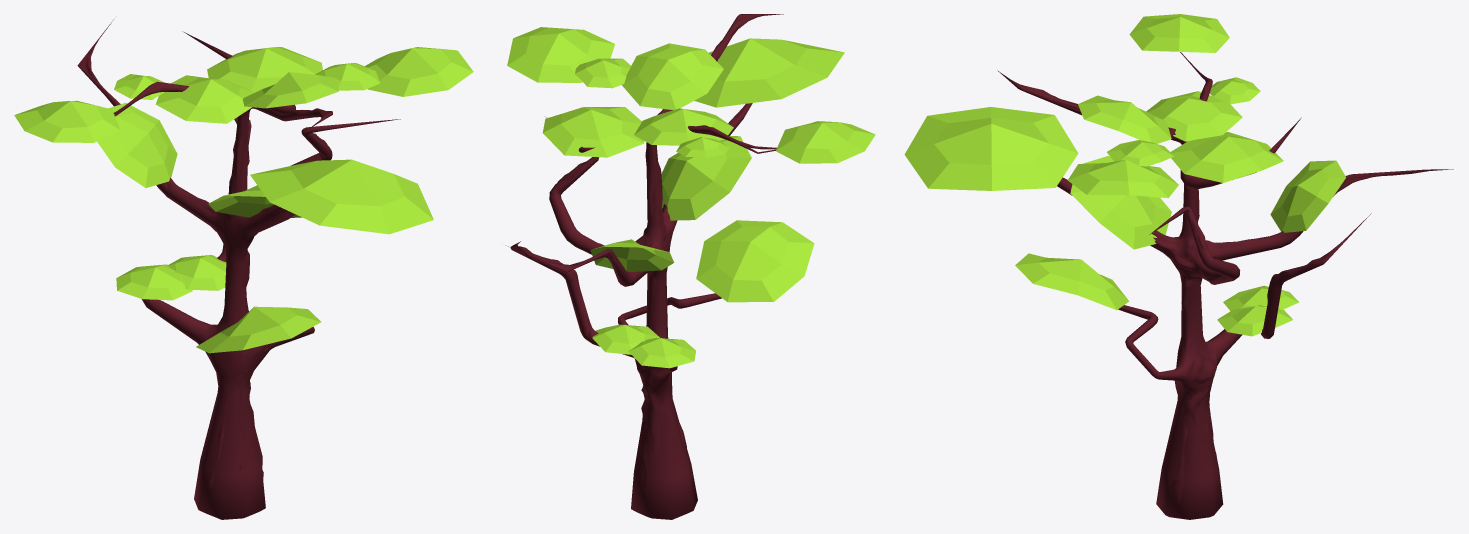
Rendered from ArbolSantiCLowPoly.fbx.
3 views of the same model, side by side, from view 1: azimuth 30°, elevation 25°; view 2: azimuth 150°, elevation 25°; view 3: azimuth 270°, elevation 25° (orthographic). The views are drawn at different scales.
Parts seen in each view (by area): view 1: Hojas, Tronco, TroncoHP; view 2: Hojas, Tronco, TroncoHP; view 3: Hojas, Tronco, TroncoHP.
Part boxes in pixels (left/top/right/bottom): Hojas: left=14, top=47, right=473, bottom=353; Tronco: left=77, top=19, right=400, bottom=519; TroncoHP: left=79, top=38, right=329, bottom=487; Hojas: left=507, top=27, right=875, bottom=368; Tronco: left=505, top=14, right=783, bottom=519; TroncoHP: left=513, top=15, right=776, bottom=486; Hojas: left=904, top=14, right=1345, bottom=336; Tronco: left=997, top=52, right=1453, bottom=519; TroncoHP: left=1012, top=53, right=1441, bottom=501.
Size of the model in its own units: 265 by 289 by 336.
